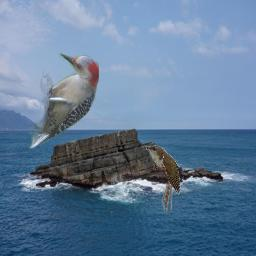Cuckoo: (143, 145, 180, 212)
Woodpecker: (28, 53, 99, 151)
